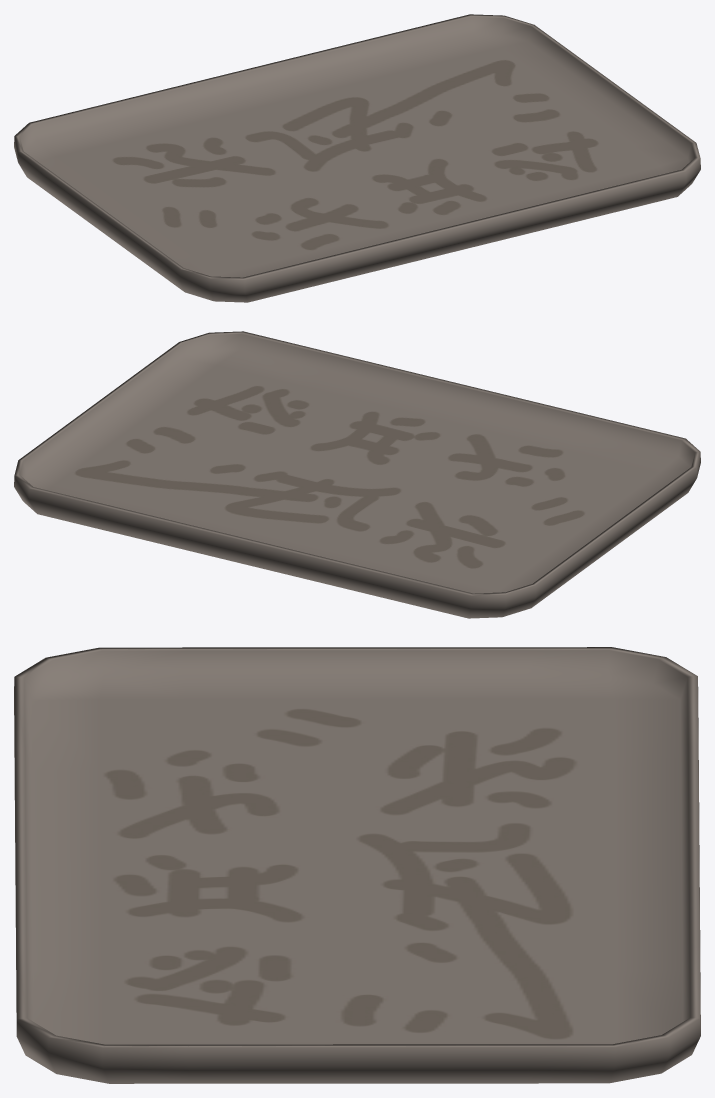
The model's file is Dojo_Plate 1.fbx.
3 renders of one model, top to bottom at view 1: azimuth 30°, elevation 25°; view 2: azimuth 150°, elevation 25°; view 3: azimuth 270°, elevation 25°, orthographic. The views are drawn at different scales.
Visible parts, largest first — view 1: Plate; view 2: Plate; view 3: Plate.
Part boxes in pixels (x1,y1,x2,y2): Plate: [14, 14, 700, 302]; Plate: [14, 331, 700, 618]; Plate: [14, 647, 700, 1083].
Bounding box in the file's own units: 58.65 × 2.78 × 42.43.
Materials: 1 (1 with a texture image).
